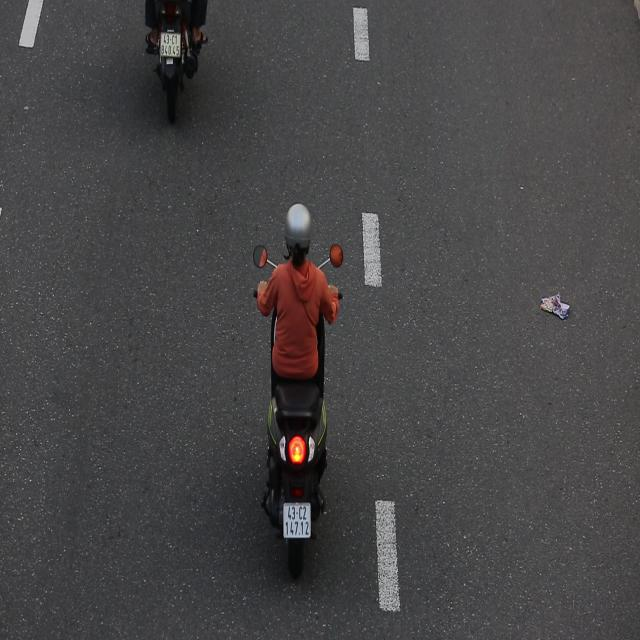motorbike: (243, 180, 352, 577)
